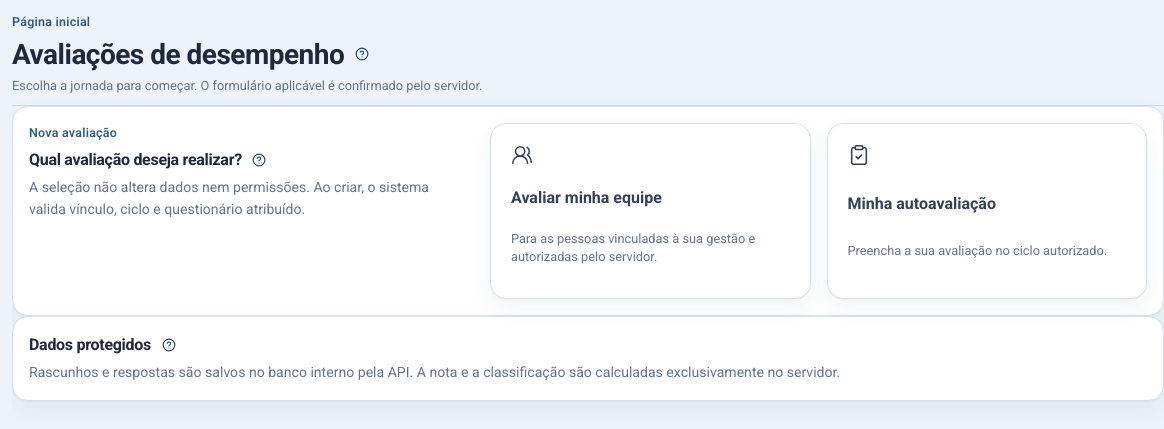
DashboardPanel › oferece ajuda contextual no cartão de jornada e no cartão de dados protegidos
The image size is (1164, 429).
Expected: the button named "Ajuda sobre Como a plataforma protege este registro" is shown, 156,333 -> 180,357
Step 1. Click the button named "Ajuda sobre Como escolher a jornada" → (260, 160), box 248,148 -> 272,172
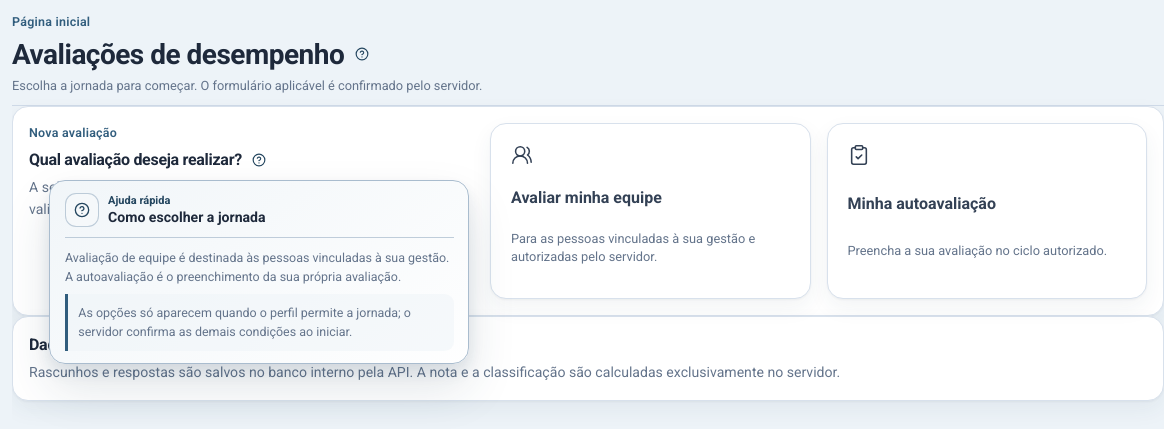
Expected: the tooltip shows "Avaliação de equipe", 65,250 -> 449,284
